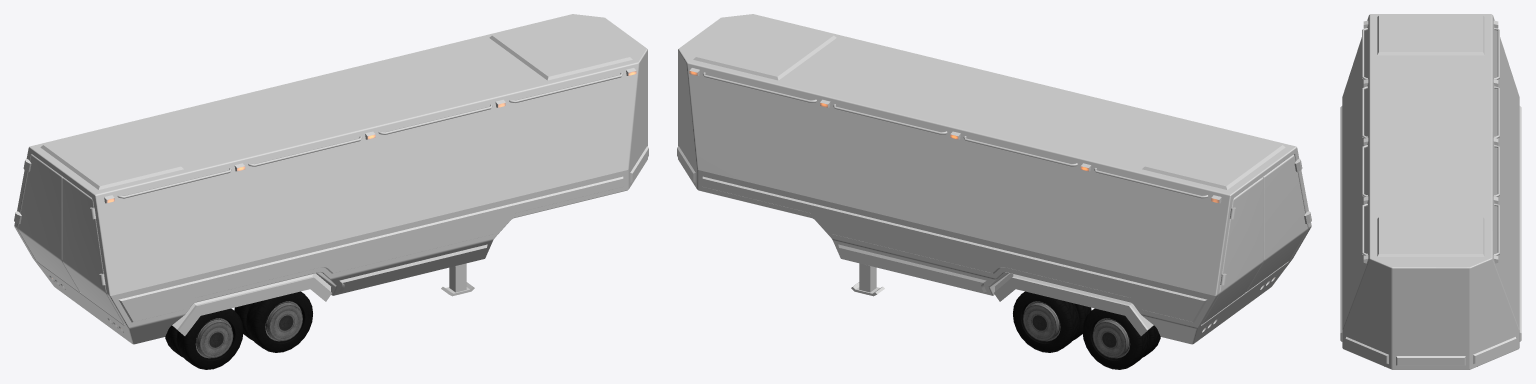
Rendered from SM_CivilianSemi_Trailer_Only.fbx.
3 views of the same model, side by side, from view 1: azimuth 30°, elevation 25°; view 2: azimuth 150°, elevation 25°; view 3: azimuth 270°, elevation 25° (orthographic). The views are drawn at different scales.
Visible parts, largest first — view 1: Cube.001, Cube.006, Left_door.005, Left_door.006, Rear_wheels.009, Rear_wheels.011, Hull.003, BézierCurve.002, Cube.004; view 2: Cube.001, Cube.006, Left_door.006, Left_door.005, Rear_wheels.008, Rear_wheels.010, Hull.003, BézierCurve.002, Cube.004; view 3: Cube.001, Cube.006, BézierCurve.002.
Boxes of the visible parts, x1,y1,x2,y2 form: Cube.001: [14, 14, 647, 344]; Cube.006: [40, 15, 648, 322]; Left_door.005: [14, 154, 79, 291]; Left_door.006: [62, 177, 123, 324]; Rear_wheels.009: [234, 291, 312, 352]; Rear_wheels.011: [165, 308, 243, 369]; Hull.003: [172, 273, 331, 335]; BézierCurve.002: [117, 72, 622, 198]; Cube.004: [441, 263, 474, 296]; Cube.001: [678, 14, 1311, 344]; Cube.006: [677, 15, 1285, 322]; Left_door.006: [1246, 154, 1311, 291]; Left_door.005: [1202, 177, 1263, 324]; Rear_wheels.008: [1013, 291, 1091, 352]; Rear_wheels.010: [1082, 308, 1160, 369]; Hull.003: [994, 273, 1153, 335]; BézierCurve.002: [703, 72, 1208, 198]; Cube.004: [851, 263, 884, 296]; Cube.001: [1342, 14, 1519, 369]; Cube.006: [1340, 15, 1521, 365]; BézierCurve.002: [1362, 28, 1499, 255].
Size of the model in its own units: 943 by 282 by 314.
2 materials, 1 textured.
